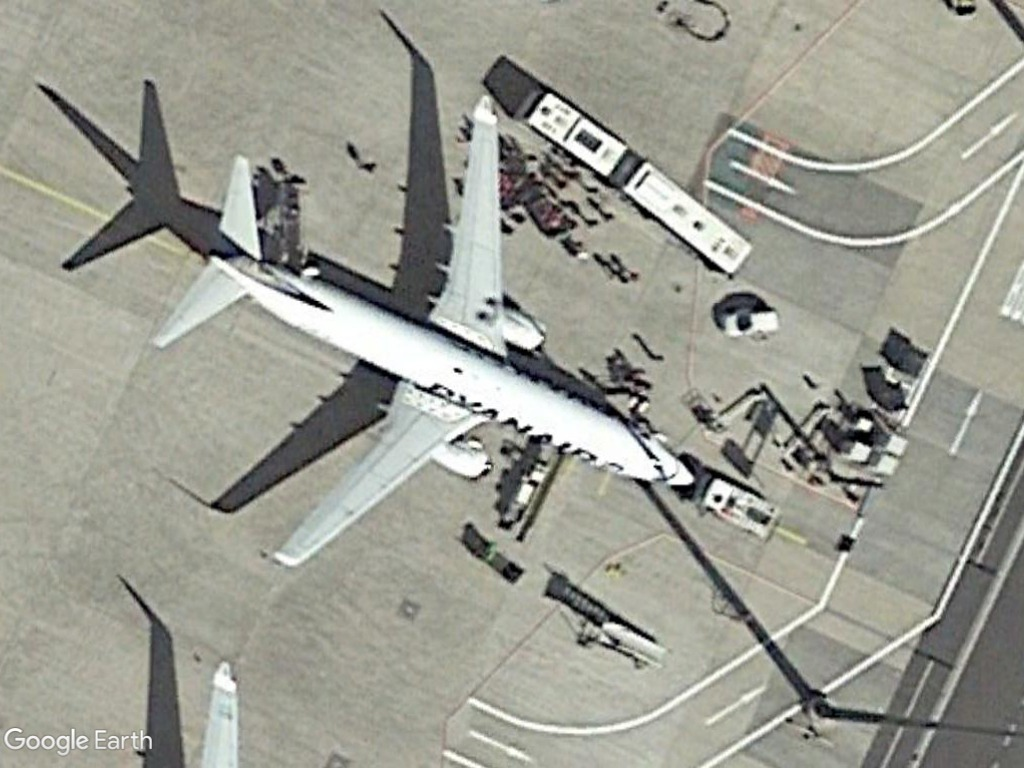airliner: (138, 80, 701, 576)
bus: (615, 156, 758, 279)
